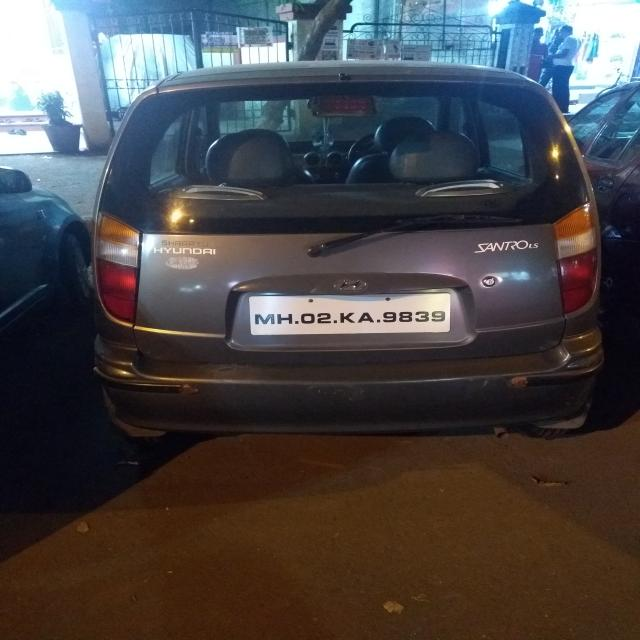Number-Plate: (249, 298, 451, 333)
